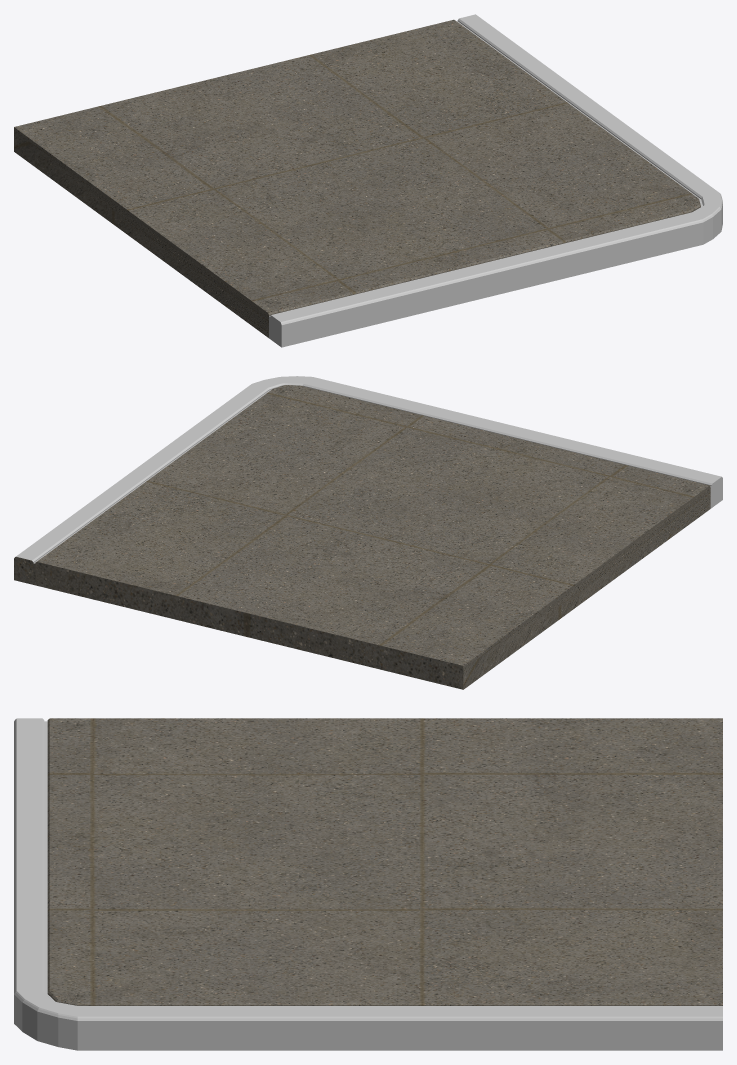
Rendered from Pavement_Curved_01.fbx.
3 renders of one model, top to bottom at view 1: azimuth 30°, elevation 25°; view 2: azimuth 150°, elevation 25°; view 3: azimuth 270°, elevation 25°, orthographic. The views are drawn at different scales.
Parts seen in each view (by area): view 1: Street_Curved.002; view 2: Street_Curved.002; view 3: Street_Curved.002.
Boxes of the visible parts, <box> form: Street_Curved.002: <box>14,14,722,347</box>; Street_Curved.002: <box>14,376,722,689</box>; Street_Curved.002: <box>14,718,722,1050</box>.
Bounding box in the file's own units: 4.2 × 4.2 × 0.214.
